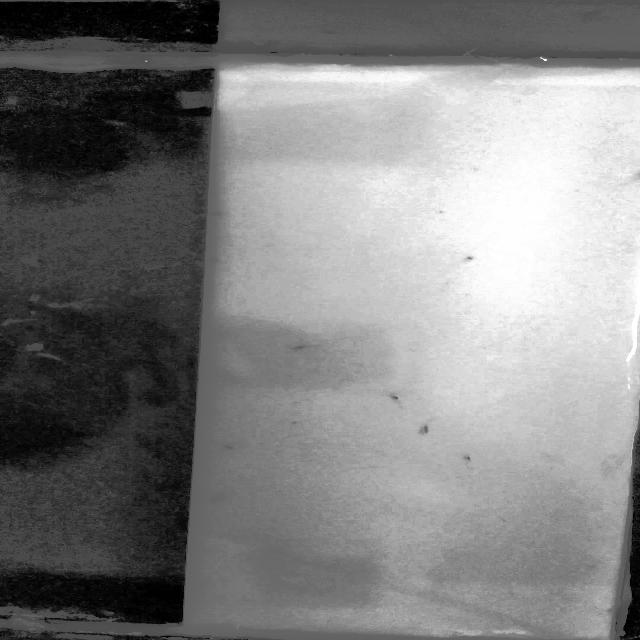shrimp: (276, 338, 323, 354), (203, 439, 252, 454), (447, 447, 484, 466), (417, 420, 446, 441), (458, 248, 493, 265), (378, 391, 414, 406), (204, 487, 232, 505), (210, 242, 224, 267), (202, 208, 236, 218)
